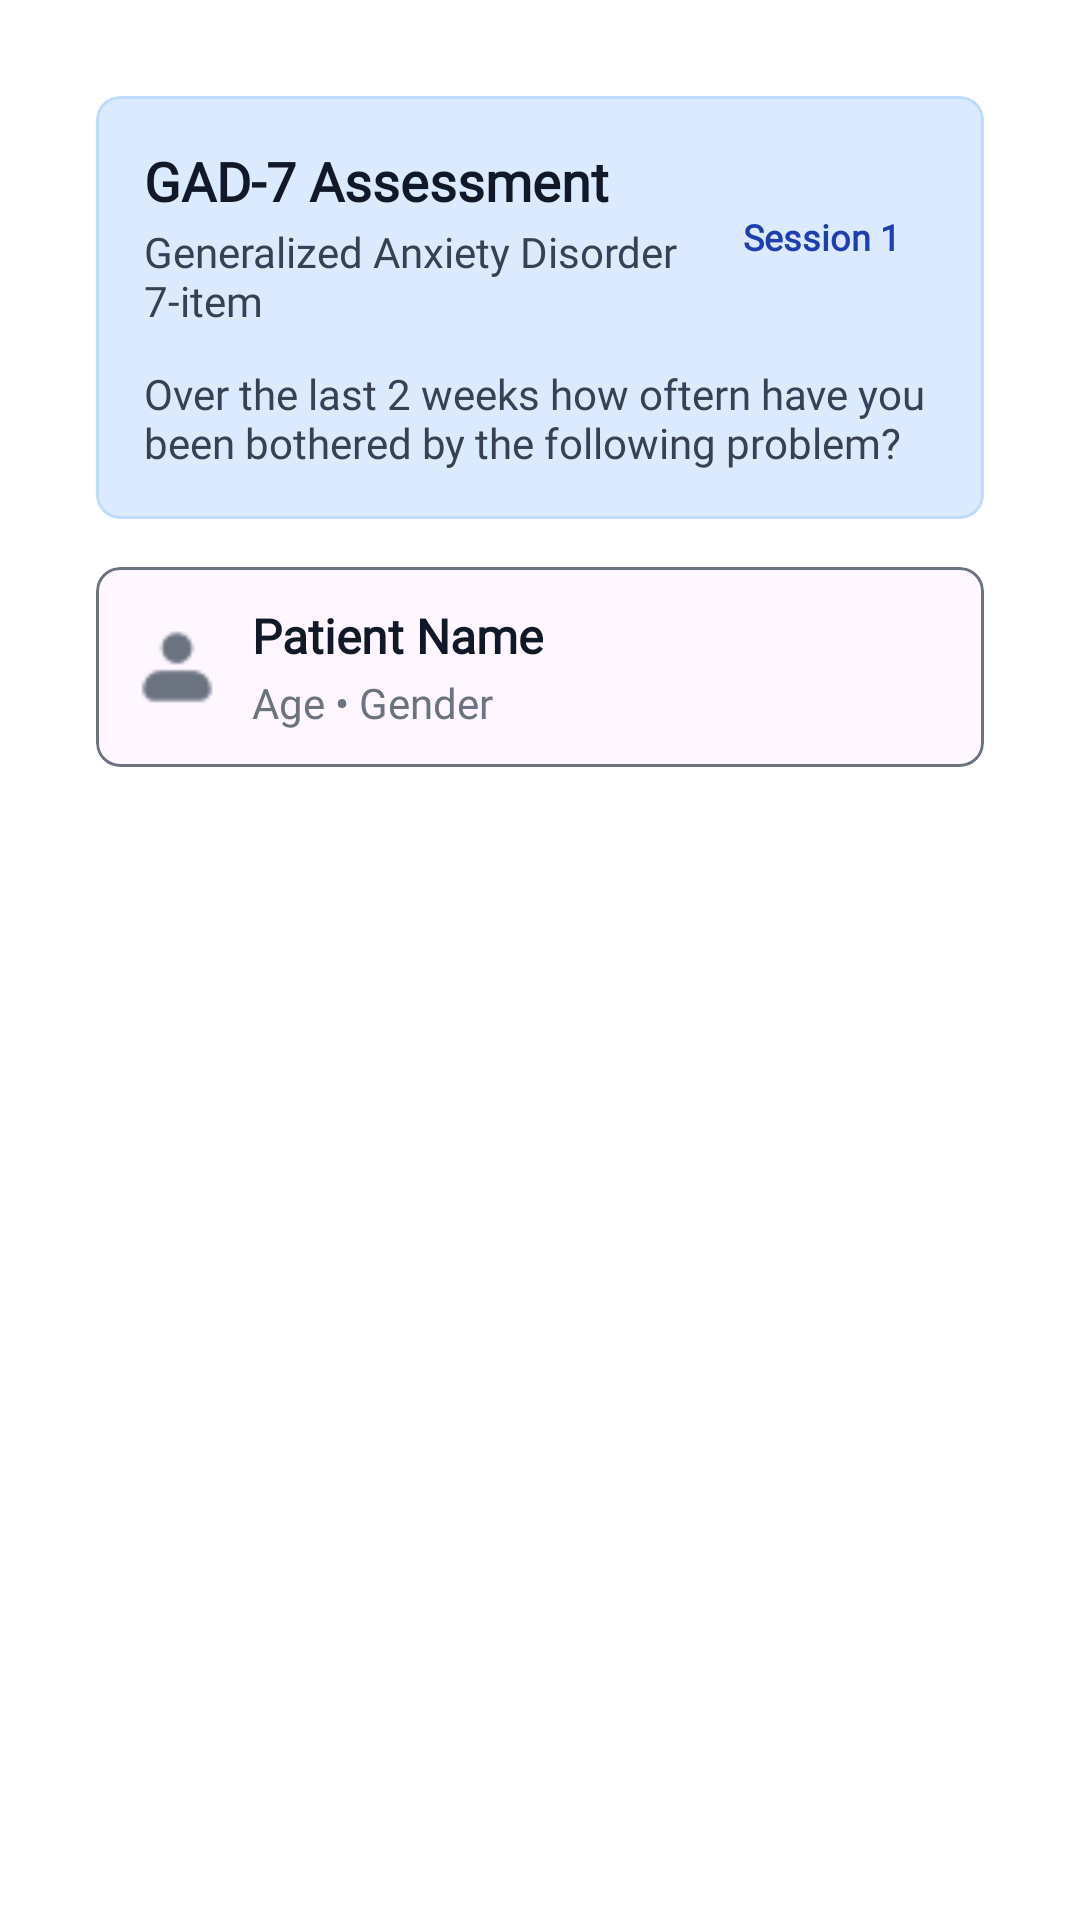

Locate icon controls on the screen. Image size 1080 × 1920, boxes as (x1, y1, x2, y2).
profile: (141, 631, 213, 703)
